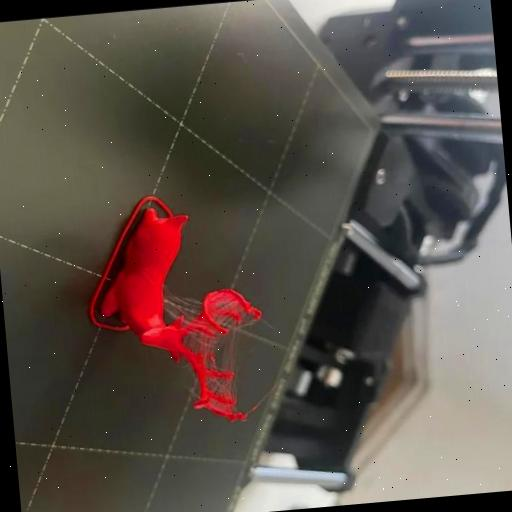stringing: (166, 291, 199, 321), (210, 292, 242, 316), (186, 329, 212, 358), (220, 332, 238, 368), (208, 376, 233, 399)
